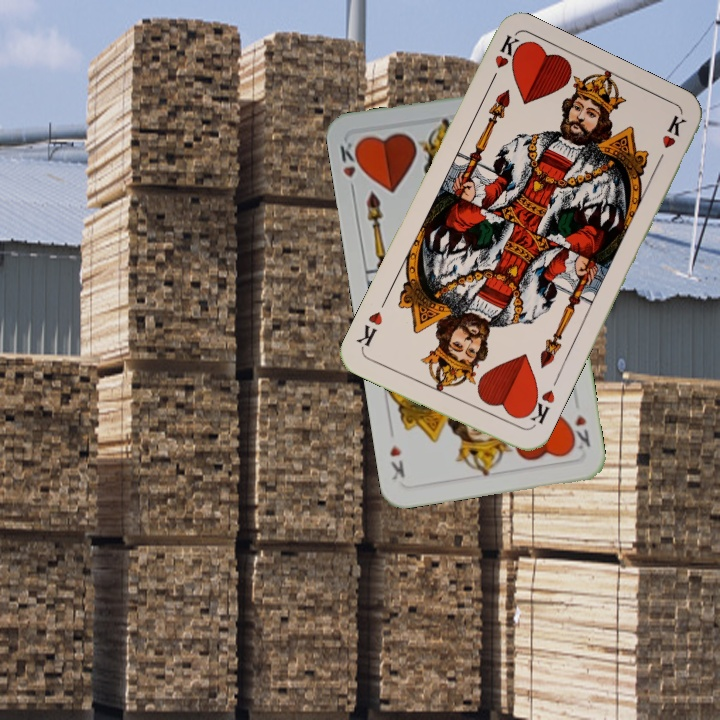HK: (484, 31, 524, 89), (335, 137, 365, 197), (520, 385, 558, 431), (565, 410, 593, 455)
